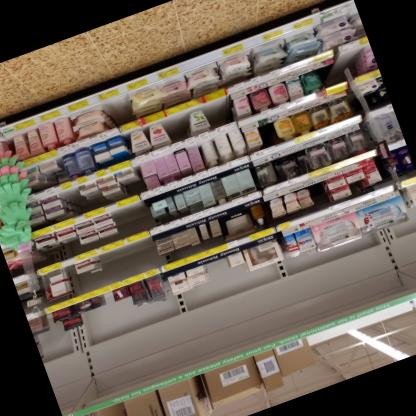empty_space: (98, 238, 160, 284), (112, 200, 153, 237), (328, 51, 355, 83), (204, 98, 231, 130), (205, 258, 232, 285), (108, 96, 133, 125), (164, 114, 188, 143), (61, 185, 86, 210), (310, 182, 327, 207), (102, 291, 113, 303)
